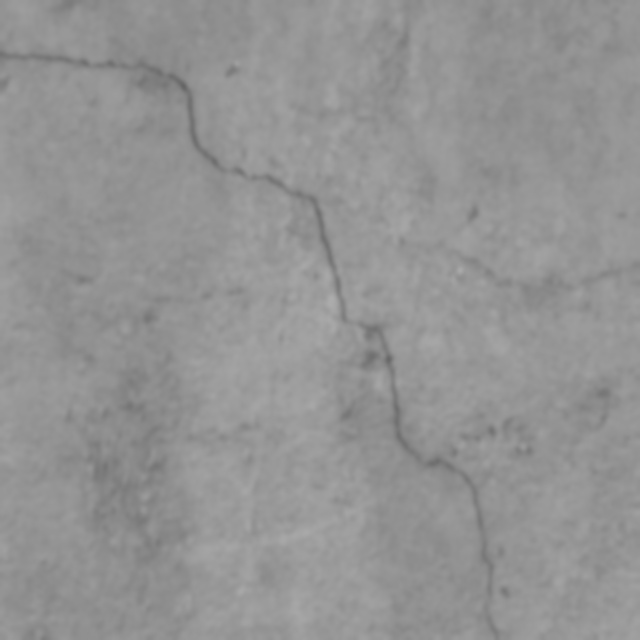SurfaceCrack: (0, 3, 559, 638)
